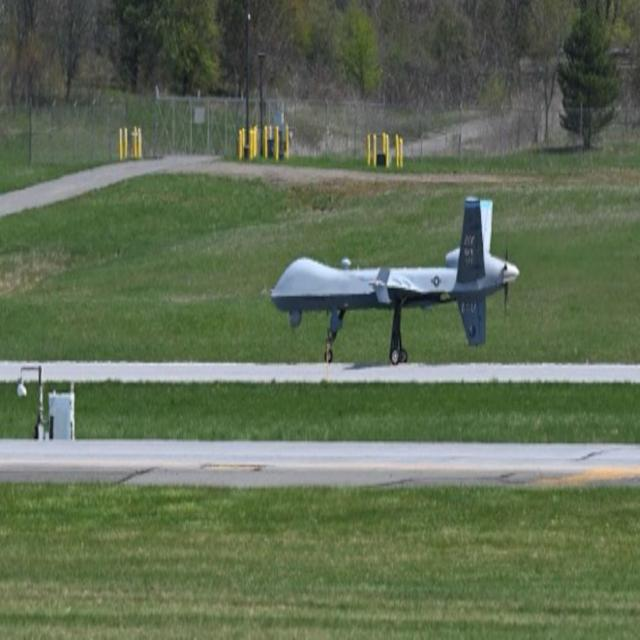MQ9: (252, 176, 529, 388)
